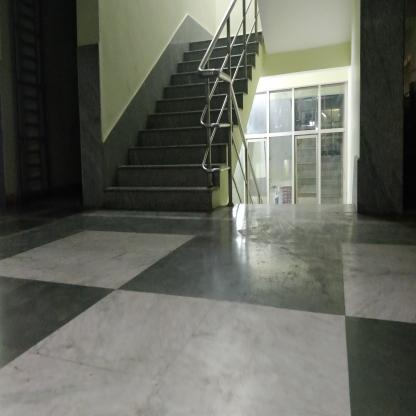stairs: (149, 110, 200, 213)
